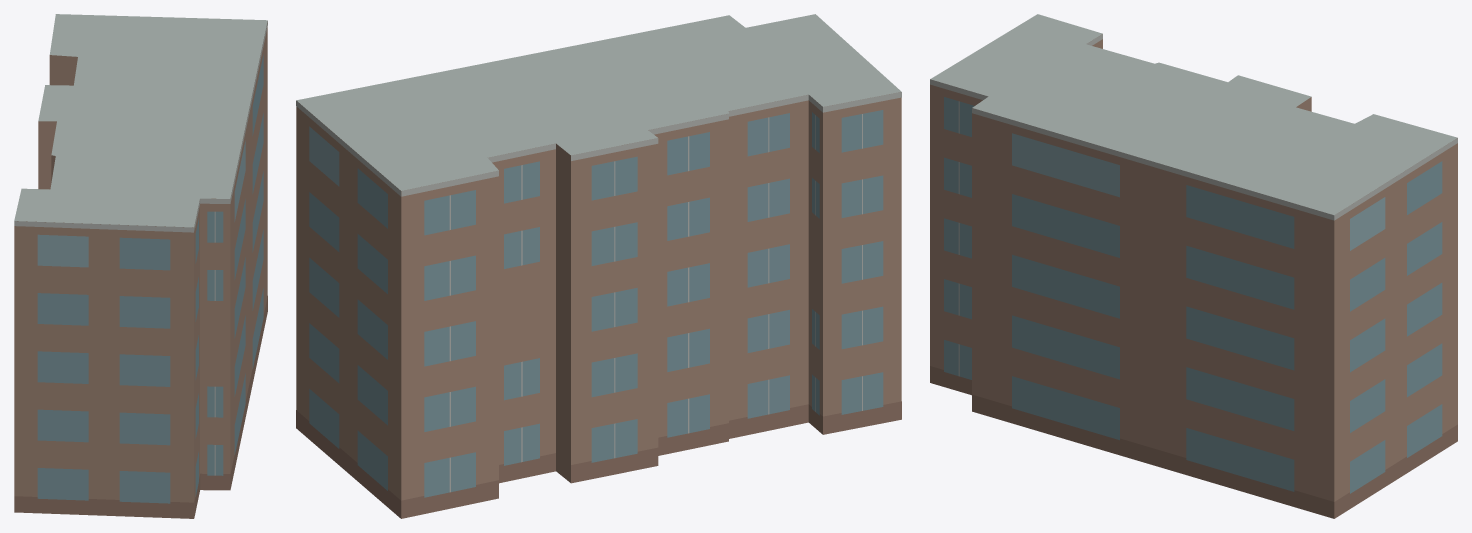
The model's file is survey-upis-33033225.glb.
The picture shows the model from 3 angles, left to right: view 1: azimuth 30°, elevation 25°; view 2: azimuth 150°, elevation 25°; view 3: azimuth 270°, elevation 25°; orthographic projection. The views are drawn at different scales.
Parts seen in each view (by area): view 1: survey-upis-33033225.tmp; view 2: survey-upis-33033225.tmp; view 3: survey-upis-33033225.tmp.
Boxes of the visible parts, left/top/right/bottom form: survey-upis-33033225.tmp: left=14, top=14, right=267, bottom=518; survey-upis-33033225.tmp: left=296, top=14, right=901, bottom=518; survey-upis-33033225.tmp: left=930, top=14, right=1457, bottom=518.
Bounding box in the file's own units: 19.81 × 13.93 × 21.95.
